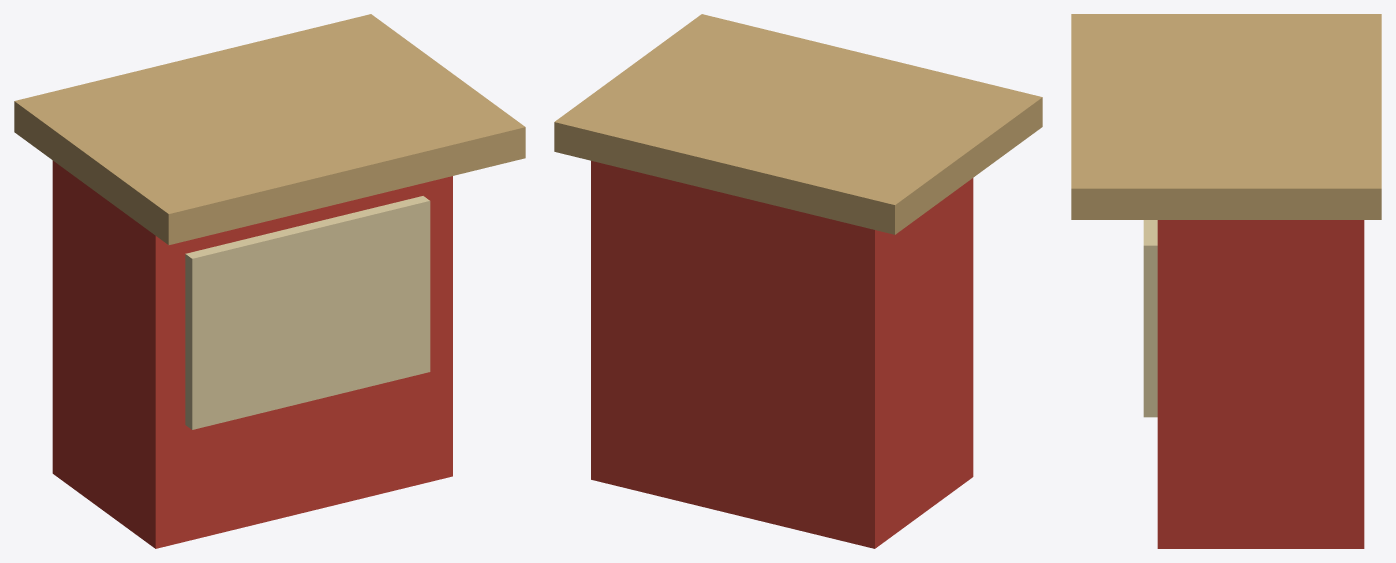
The picture shows the model from 3 angles, left to right: view 1: azimuth 30°, elevation 25°; view 2: azimuth 150°, elevation 25°; view 3: azimuth 270°, elevation 25°; orthographic projection. The views are drawn at different scales.
Parts seen in each view (by area): view 1: RC-025 Newsstand batched; view 2: RC-025 Newsstand batched; view 3: RC-025 Newsstand batched.
Boxes of the visible parts, left/top/right/bottom form: RC-025 Newsstand batched: left=14, top=14, right=525, bottom=548; RC-025 Newsstand batched: left=554, top=14, right=1042, bottom=548; RC-025 Newsstand batched: left=1071, top=14, right=1381, bottom=548.
Size of the model in its own units: 2.4 by 2.4 by 1.8.
